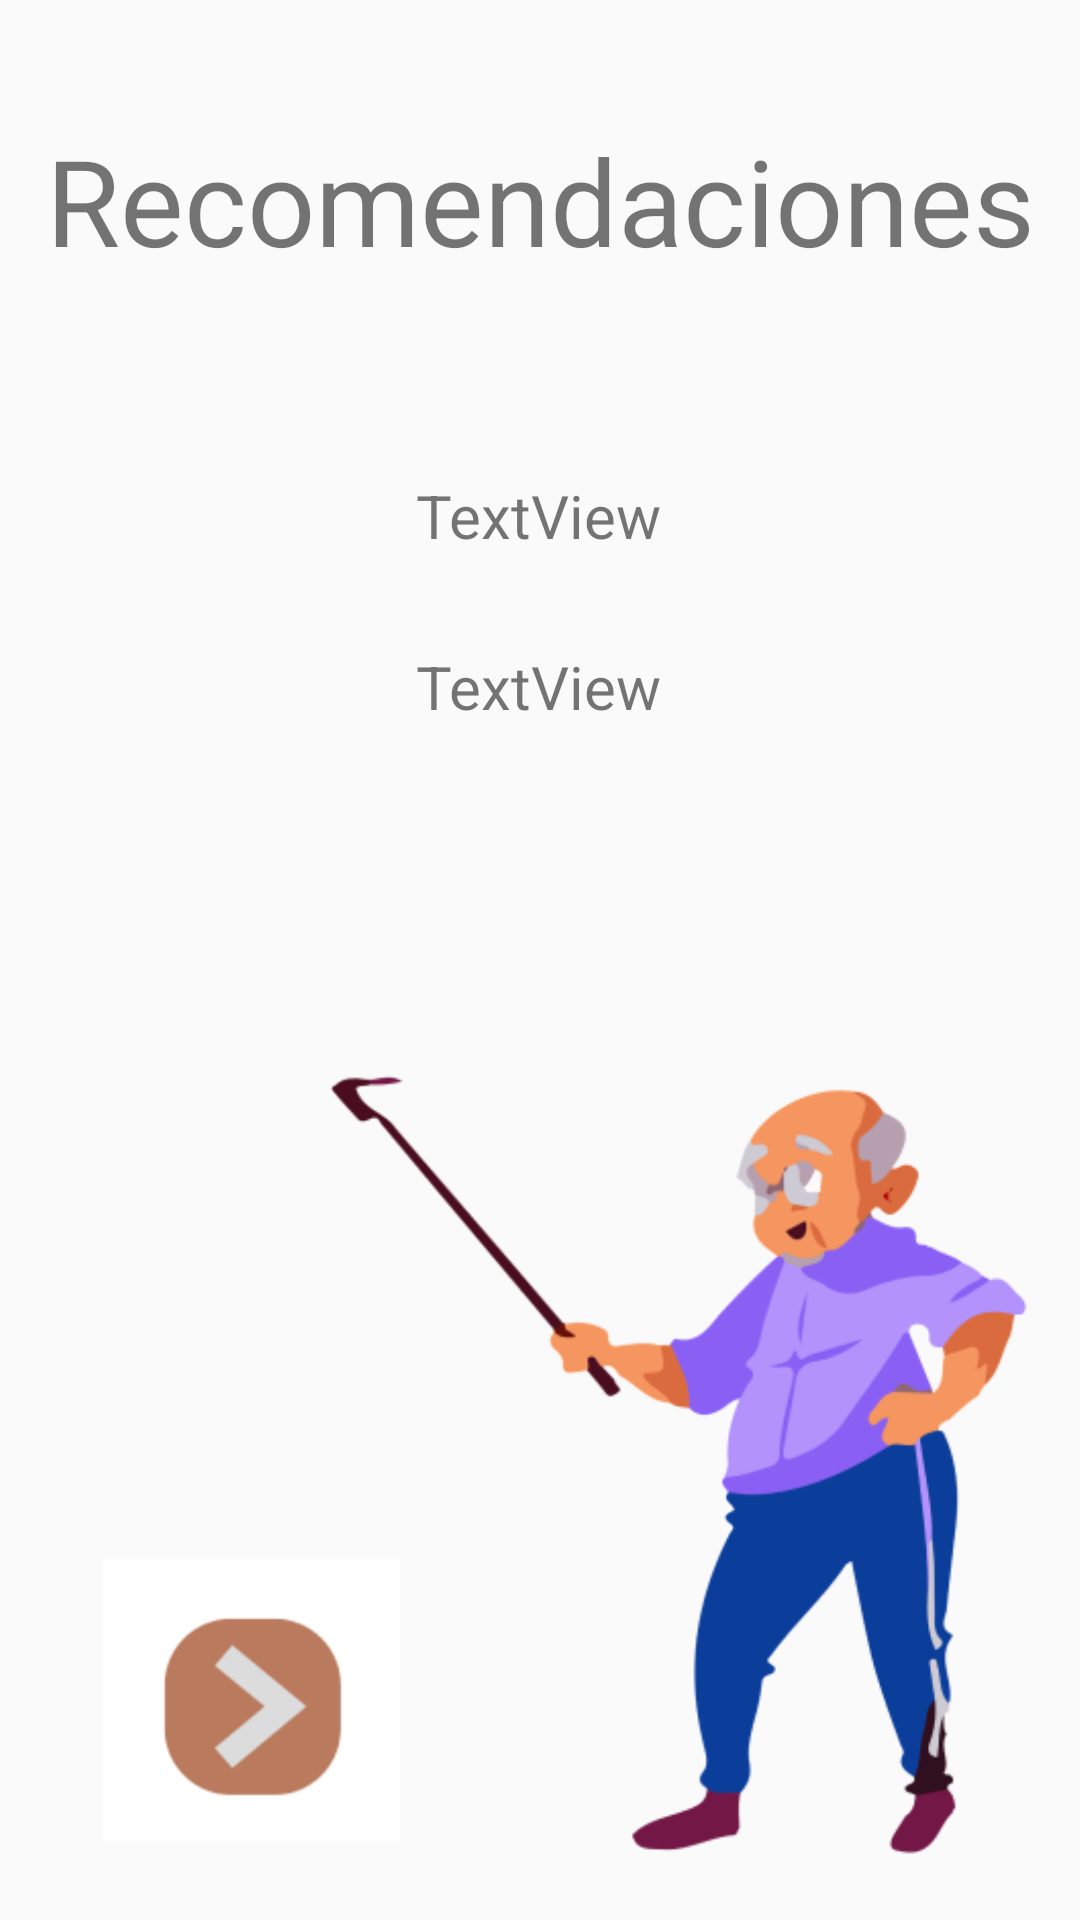

Locate icon controls on the screen. Image size 1080x1920, boxes as (left=x1, top=y1, right=x2, bottom=y2).
seguir: (left=164, top=1618, right=342, bottom=1796)
